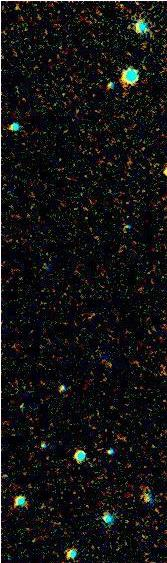star: (31, 441, 61, 471)
